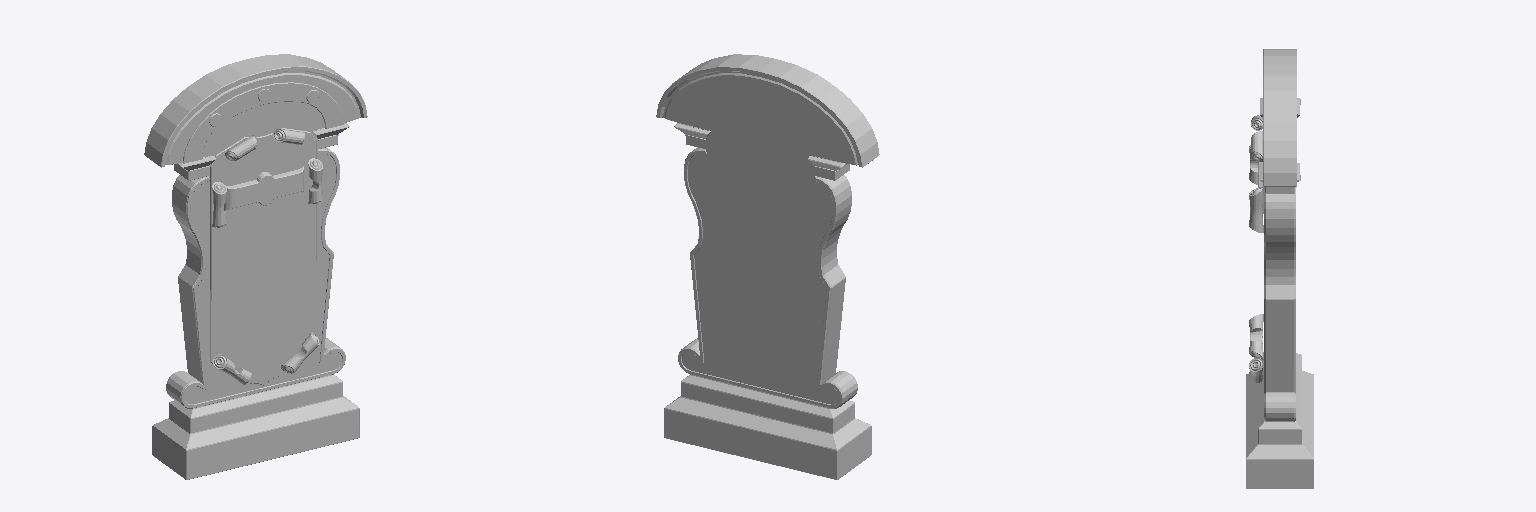
File: gravestone1.obj
The picture shows the model from 3 angles: view 1: azimuth 30°, elevation 25°; view 2: azimuth 150°, elevation 25°; view 3: azimuth 270°, elevation 25°; orthographic projection.
Visible parts, largest first — view 1: gravestone_01:gravestone1; view 2: gravestone_01:gravestone1; view 3: gravestone_01:gravestone1.
Boxes of the visible parts, x1,y1,x2,y2 form: gravestone_01:gravestone1: [144, 54, 367, 479]; gravestone_01:gravestone1: [656, 54, 879, 479]; gravestone_01:gravestone1: [1246, 49, 1313, 488].
Size of the model in its own units: 3.5 by 6.17 by 1.